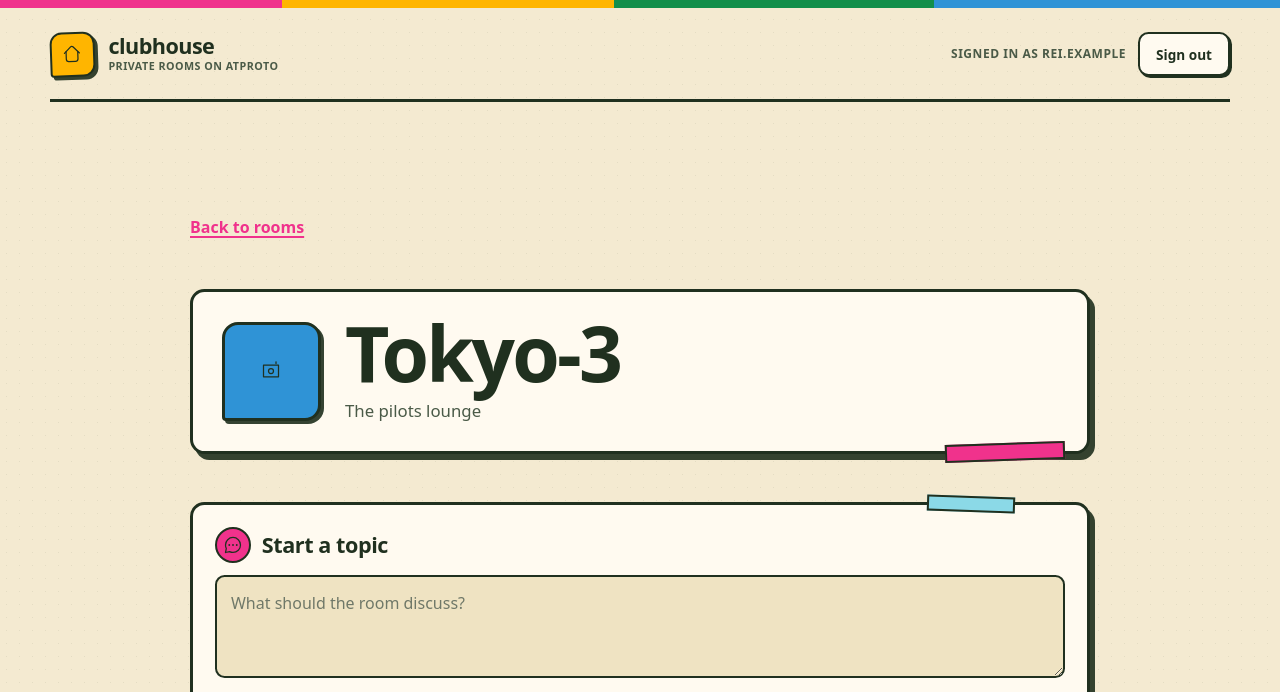
Test case: room loading › does not revive private posts after sign-out while enrichment is pending
Click the button "Sign out": (1184, 54) top-left (1138, 32), bottom-right (1230, 76)
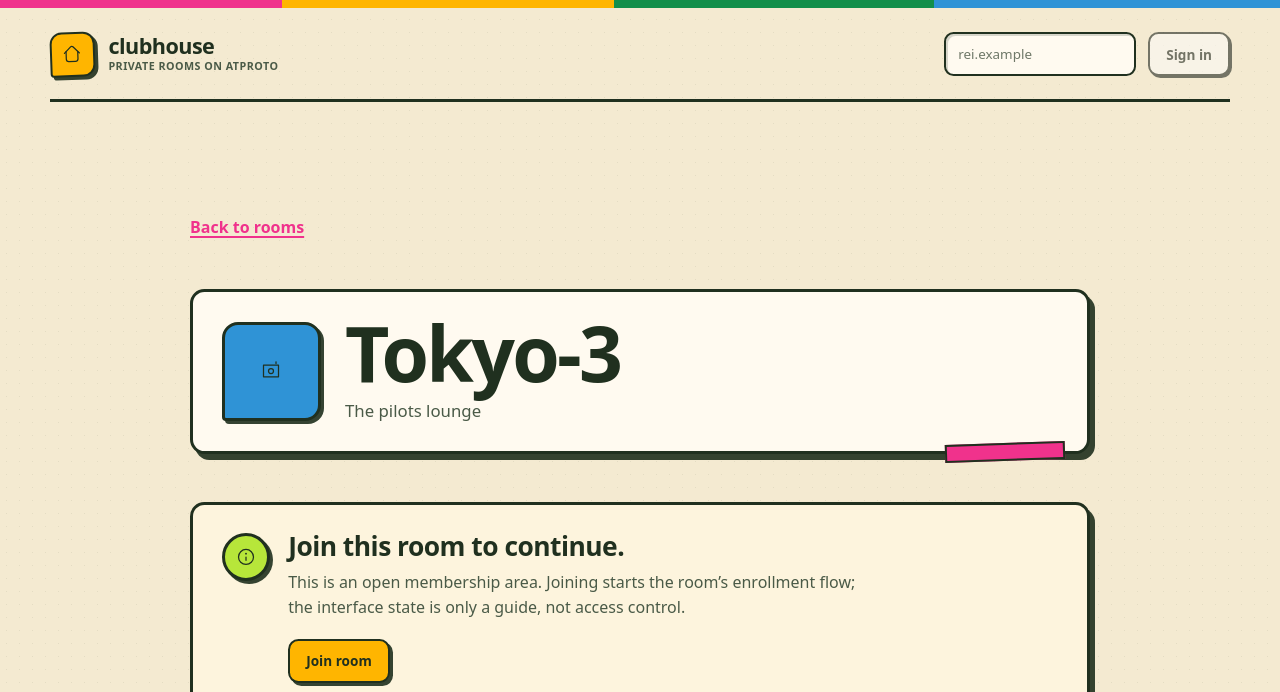
Now the form with class "sign-in" is shown, box top-left (944, 32), bottom-right (1230, 76)
Now the button "Join room" is enabled, box top-left (288, 639), bottom-right (390, 683)
